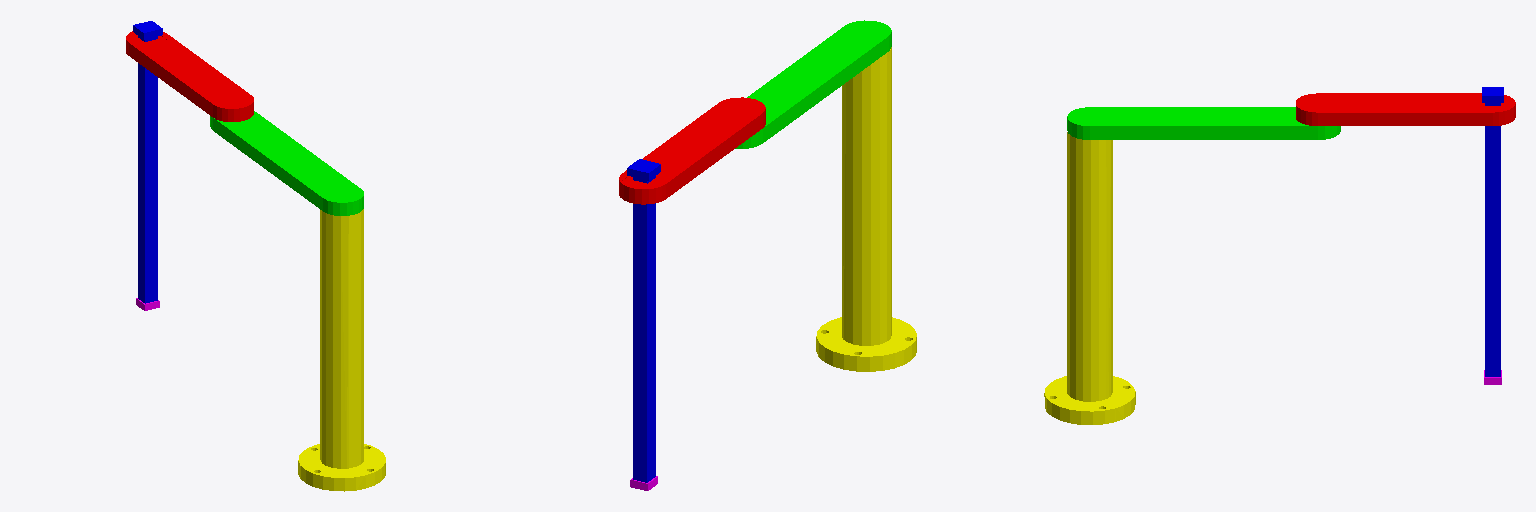
robot.urdf — SCARA_Robot:
<?xml version="1.0" encoding="utf-8"?>
<!-- This URDF was automatically created by SolidWorks to URDF Exporter! Originally created by [author] ([email redacted]) 
     Commit Version: 1.6.0-1-g15f4949  Build Version: 1.6.7594.29634
     For more information, please see http://wiki.ros.org/sw_urdf_exporter -->
<robot
  name="SCARA_Robot">
  <link
    name="Base">
    <inertial>
      <origin
        xyz="-2.22044604925031E-16 -1.99840144432528E-15 0.874878048780491"
        rpy="0 0 0" />
      <mass
        value="161.006623496476" />
      <inertia
        ixx="63.7055639781309"
        ixy="5.32907051820075E-15"
        ixz="-5.07443548533568E-15"
        iyy="63.7055639781309"
        iyz="5.5164205809107E-14"
        izz="2.73081055210449" />
    </inertial>
    <visual>
      <origin
        xyz="0 0 0"
        rpy="0 0 0" />
      <geometry>
        <mesh
          filename="package://SCARA_Robot/meshes/Base.STL" />
      </geometry>
      <material
        name="">
        <color
          rgba="1 1 0 1" />
      </material>
    </visual>
    <collision>
      <origin
        xyz="0 0 0"
        rpy="0 0 0" />
      <geometry>
        <mesh
          filename="package://SCARA_Robot/meshes/Base.STL" />
      </geometry>
    </collision>
  </link>
  <link
    name="Link_1">
    <inertial>
      <origin
        xyz="-3.10862446895044E-15 0.733157618517195 -0.00168423814827934"
        rpy="0 0 0" />
      <mass
        value="52.4612825522758" />
      <inertia
        ixx="13.3860190845539"
        ixy="-8.43769498715119E-14"
        ixz="-2.04704799696345E-16"
        iyy="0.428929121318069"
        iyz="-0.050053607231027"
        izz="13.7121024011319" />
    </inertial>
    <visual>
      <origin
        xyz="0 0 0"
        rpy="0 0 0" />
      <geometry>
        <mesh
          filename="package://SCARA_Robot/meshes/Link_1.STL" />
      </geometry>
      <material
        name="">
        <color
          rgba="0 1 0 1" />
      </material>
    </visual>
    <collision>
      <origin
        xyz="0 0 0"
        rpy="0 0 0" />
      <geometry>
        <mesh
          filename="package://SCARA_Robot/meshes/Link_1.STL" />
      </geometry>
    </collision>
  </link>
  <joint
    name="J1"
    type="continuous">
    <origin
      xyz="0 0 2.05"
      rpy="0 0 0" />
    <parent
      link="Base" />
    <child
      link="Link_1" />
    <axis
      xyz="0 0 1" />
  </joint>
  <link
    name="Link_2">
    <inertial>
      <origin
        xyz="4.66293670342566E-15 0.551063175805499 0.0989436528207839"
        rpy="0 0 0" />
      <mass
        value="40.6612825522758" />
      <inertia
        ixx="6.40682919612545"
        ixy="-3.90659726789977E-14"
        ixz="-4.16369193526819E-17"
        iyy="0.332115410470652"
        iyz="-0.00814450310563416"
        izz="6.66805955688425" />
    </inertial>
    <visual>
      <origin
        xyz="0 0 0"
        rpy="0 0 0" />
      <geometry>
        <mesh
          filename="package://SCARA_Robot/meshes/Link_2.STL" />
      </geometry>
      <material
        name="">
        <color
          rgba="1 0 0 1" />
      </material>
    </visual>
    <collision>
      <origin
        xyz="0 0 0"
        rpy="0 0 0" />
      <geometry>
        <mesh
          filename="package://SCARA_Robot/meshes/Link_2.STL" />
      </geometry>
    </collision>
  </link>
  <joint
    name="J2"
    type="continuous">
    <origin
      xyz="0 1.5 0"
      rpy="0 0 0" />
    <parent
      link="Link_1" />
    <child
      link="Link_2" />
    <axis
      xyz="0 0 -1" />
  </joint>
  <link
    name="Fixer">
    <inertial>
      <origin
        xyz="-0.00261489216197641 -2.9728999455525E-06 0.145"
        rpy="0 0 0" />
      <mass
        value="0.299999999999994" />
      <inertia
        ixx="0.00125249999999997"
        ixy="-4.33680868994202E-19"
        ixz="7.525687993814E-21"
        iyy="0.00125249999999997"
        iyz="-1.19320236895152E-21"
        izz="0.00249999999999995" />
    </inertial>
    <visual>
      <origin
        xyz="0 0 0"
        rpy="0 0 0" />
      <geometry>
        <mesh
          filename="package://SCARA_Robot/meshes/Fixer.STL" />
      </geometry>
      <material
        name="">
        <color
          rgba="1 0 0 1" />
      </material>
    </visual>
    <collision>
      <origin
        xyz="0 0 0"
        rpy="0 0 0" />
      <geometry>
        <mesh
          filename="package://SCARA_Robot/meshes/Fixer.STL" />
      </geometry>
    </collision>
  </link>
  <joint
    name="F1"
    type="fixed">
    <origin
      xyz="0 1.15 0"
      rpy="0 0 0" />
    <parent
      link="Link_2" />
    <child
      link="Fixer" />
    <axis
      xyz="0 0 0" />
    <limit
      lower="-1.8663"
      upper="0.033719"
      effort="0"
      velocity="0" />
  </joint>
  <link
    name="Link_3">
    <inertial>
      <origin
        xyz="8.21565038222616E-15 -6.88338275267597E-15 -0.759268317242751"
        rpy="0 0 0" />
      <mass
        value="21.0759126147877" />
      <inertia
        ixx="7.75124548549942"
        ixy="0"
        ixz="7.79968790107981E-17"
        iyy="7.75124548549942"
        iyz="1.58801410615585E-17"
        izz="0.0375367435254545" />
    </inertial>
    <visual>
      <origin
        xyz="0 0 0"
        rpy="0 0 0" />
      <geometry>
        <mesh
          filename="package://SCARA_Robot/meshes/Link_3.STL" />
      </geometry>
      <material
        name="">
        <color
          rgba="0 0 1 1" />
      </material>
    </visual>
    <collision>
      <origin
        xyz="0 0 0"
        rpy="0 0 0" />
      <geometry>
        <mesh
          filename="package://SCARA_Robot/meshes/Link_3.STL" />
      </geometry>
    </collision>
  </link>
  <joint
    name="J3"
    type="prismatic">
    <origin
      xyz="0 0 0"
      rpy="0 0 0" />
    <parent
      link="Fixer" />
    <child
      link="Link_3" />
    <axis
      xyz="0 0 1" />
    <limit
      lower="0"
      upper="0"
      effort="0"
      velocity="0" />
  </joint>
  <link
    name="End_Effector">
    <inertial>
      <origin
        xyz="7.7715611723761E-15 -7.105427357601E-15 0.025"
        rpy="0 0 0" />
      <mass
        value="0.621825229575318" />
      <inertia
        ixx="0.000978207114949334"
        ixy="-2.98155597433514E-19"
        ixz="-4.96506185801494E-20"
        iyy="0.000978207114949331"
        iyz="2.31521768576579E-20"
        izz="0.00169732038424228" />
    </inertial>
    <visual>
      <origin
        xyz="0 0 0"
        rpy="0 0 0" />
      <geometry>
        <mesh
          filename="package://SCARA_Robot/meshes/End_Effector.STL" />
      </geometry>
      <material
        name="">
        <color
          rgba="1 0 1 1" />
      </material>
    </visual>
    <collision>
      <origin
        xyz="0 0 0"
        rpy="0 0 0" />
      <geometry>
        <mesh
          filename="package://SCARA_Robot/meshes/End_Effector.STL" />
      </geometry>
    </collision>
  </link>
  <joint
    name="F2"
    type="fixed">
    <origin
      xyz="0 0 -1.8663"
      rpy="0 0 0" />
    <parent
      link="Link_3" />
    <child
      link="End_Effector" />
    <axis
      xyz="0 0 0" />
  </joint>
</robot>

--- What the picture shows (computed from the rendered views, not written in the file) ---
Views: 3 orthographic renders of the robot side by side, from view 1: azimuth 30°, elevation 25°; view 2: azimuth 150°, elevation 25°; view 3: azimuth 270°, elevation 25°.
Model SCARA_Robot with 6 links and 5 joints (2 continuous, 1 prismatic, 2 fixed), rooted at Base, posed every joint at zero.
Visible links, largest first — view 1: Base, Link_1, Link_3, Link_2; view 2: Base, Link_1, Link_3, Link_2; view 3: Base, Link_1, Link_2, Link_3.
Boxes of the visible links, bbox=[...] form: Base: bbox=[298, 209, 385, 491]; Link_1: bbox=[210, 111, 363, 215]; Link_3: bbox=[133, 21, 162, 303]; Link_2: bbox=[126, 31, 253, 121]; Base: bbox=[816, 47, 916, 371]; Link_1: bbox=[735, 20, 891, 148]; Link_3: bbox=[627, 159, 660, 482]; Link_2: bbox=[619, 97, 765, 204]; Base: bbox=[1044, 132, 1135, 424]; Link_1: bbox=[1067, 107, 1340, 139]; Link_2: bbox=[1296, 93, 1515, 125]; Link_3: bbox=[1482, 87, 1503, 376].
Size in the robot's own frame: 0.5988 by 3.1 by 2.28 metres.
Meshes: 6 distinct files referenced, 6 mesh visuals loaded (6 binary STL).